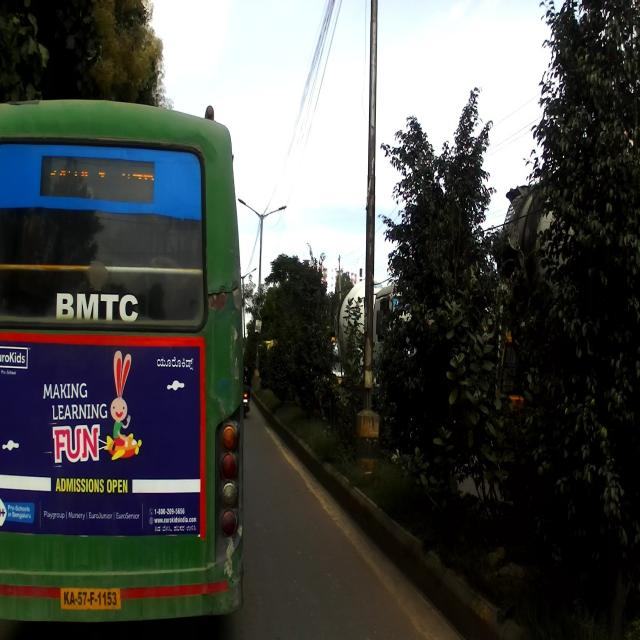bus: (0, 96, 248, 620)
